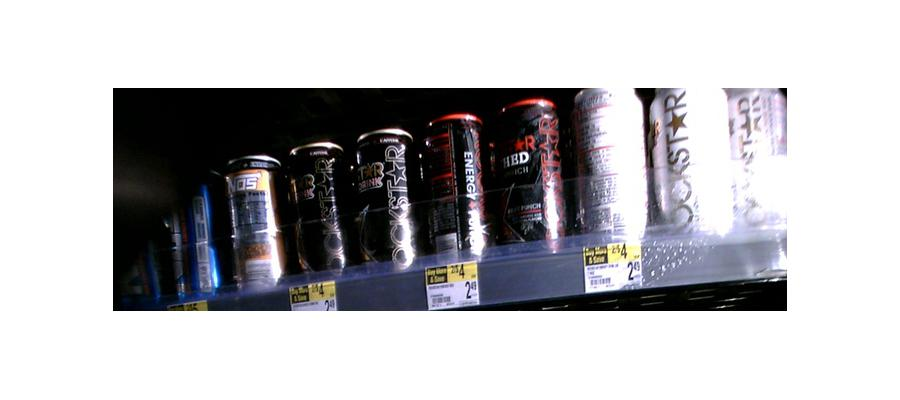bottle: (574, 88, 647, 255), (494, 99, 565, 254), (350, 130, 419, 272), (221, 152, 286, 292), (426, 111, 485, 263), (286, 142, 346, 277), (651, 89, 702, 242)
